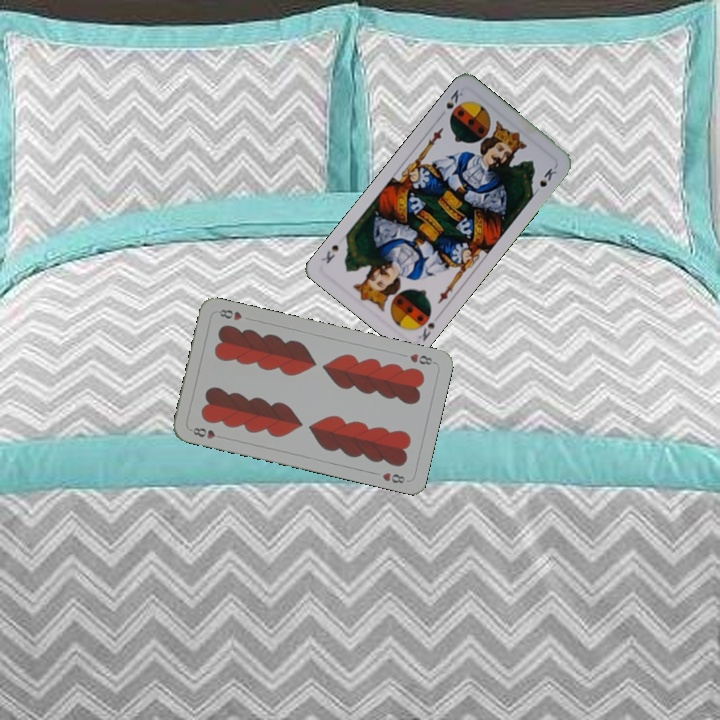H8: (189, 423, 226, 441), (406, 349, 437, 367)
SK: (414, 310, 443, 344), (442, 85, 467, 112)
